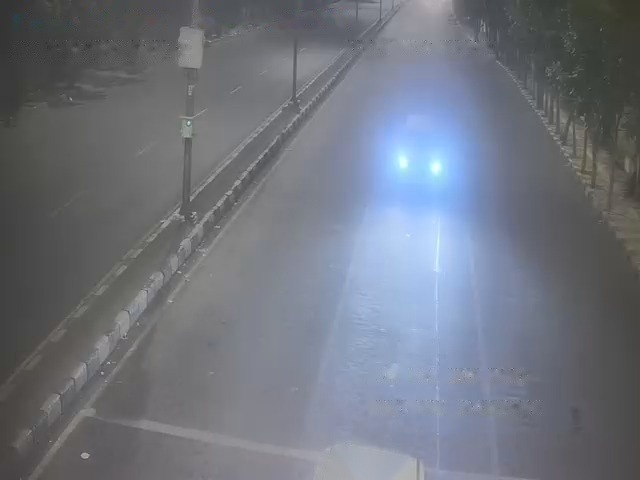Mobil: (391, 112, 449, 190)
